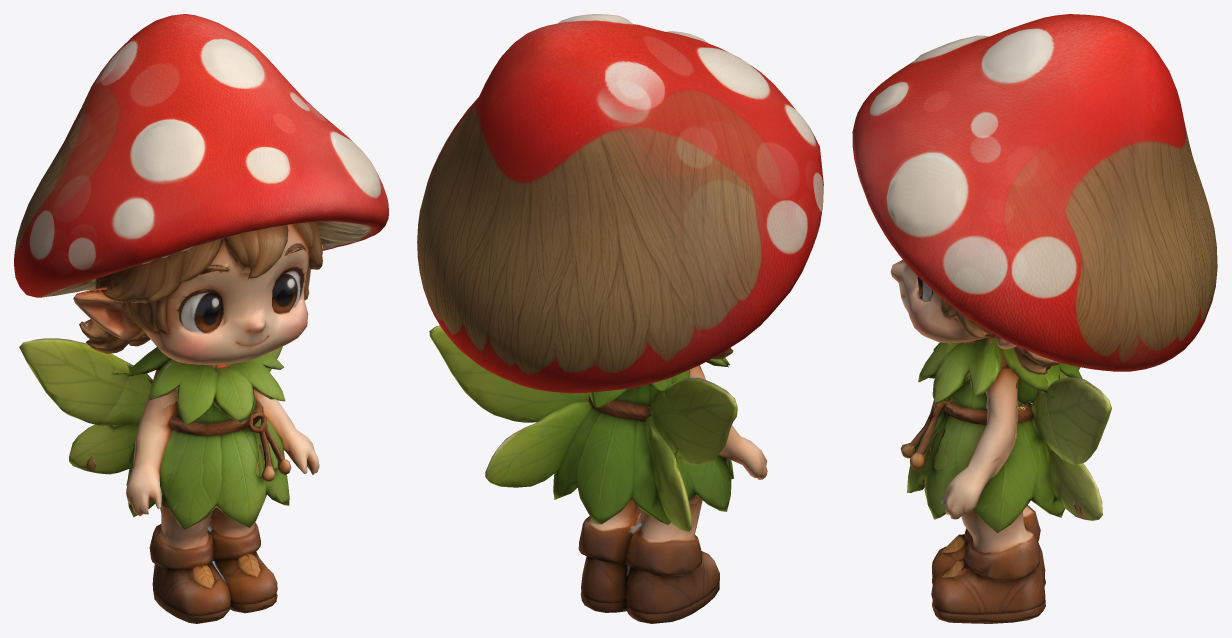
Rendered from mushroom.glb.
The picture shows the model from 3 angles, left to right: view 1: azimuth 30°, elevation 25°; view 2: azimuth 150°, elevation 25°; view 3: azimuth 270°, elevation 25°; orthographic projection. The views are drawn at different scales.
Visible parts, largest first — view 1: texture_mapping; view 2: texture_mapping; view 3: texture_mapping.
Boxes of the visible parts, x1,y1,x2,y2 form: texture_mapping: (14,14,388,623); texture_mapping: (417,14,823,623); texture_mapping: (852,14,1217,623).
Size of the model in its own units: 0.6397 by 1 by 0.5645.
Materials: 1 (1 with a texture image).
